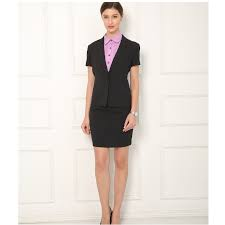F_tailored skirt: (86, 99, 136, 149)
